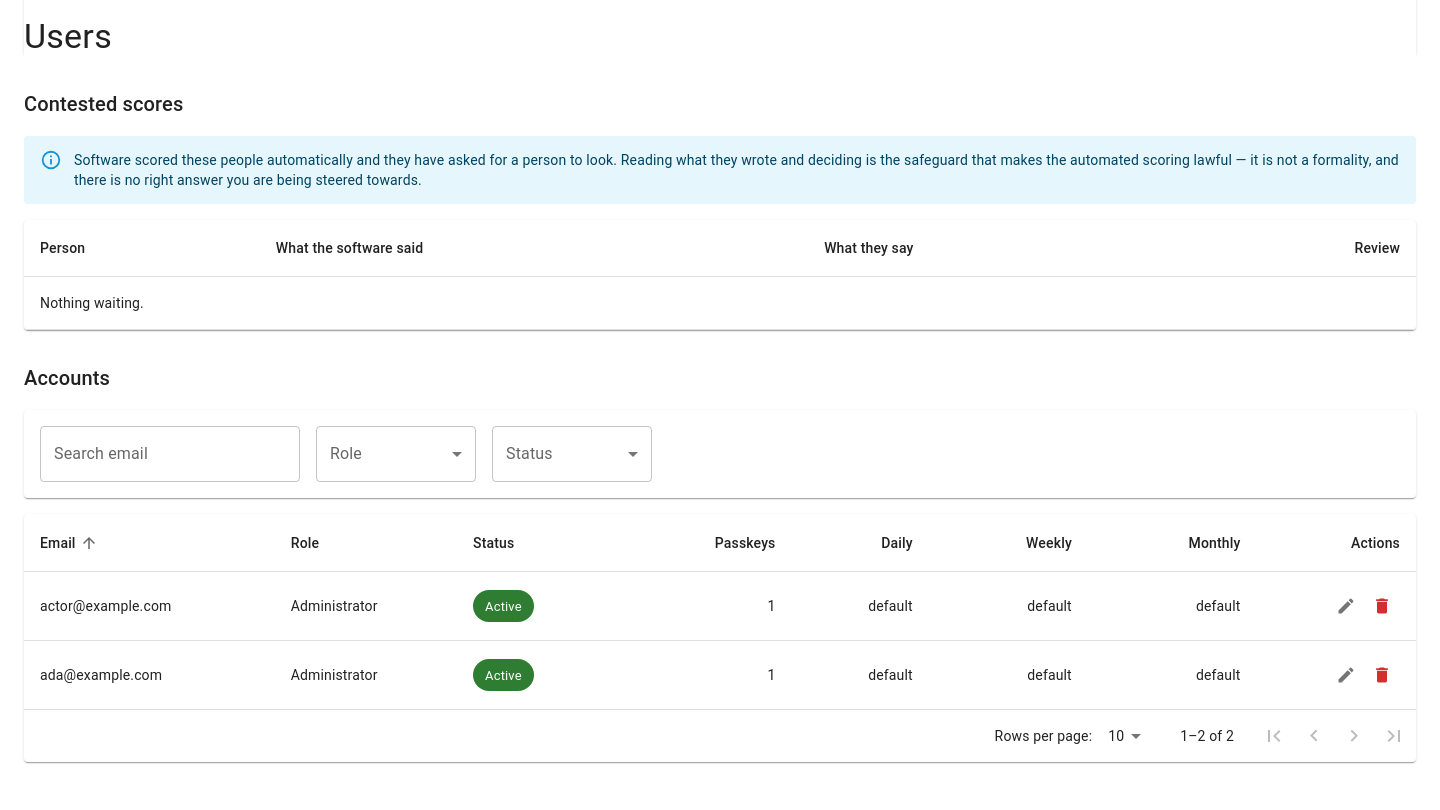
refusals, visible before the click › blocks the signed-in person's own account and says why, as text
(page scrolled)
Click the button named "Edit" in the row of "actor@example.com" at (1346, 606), box [1328, 588, 1364, 624]
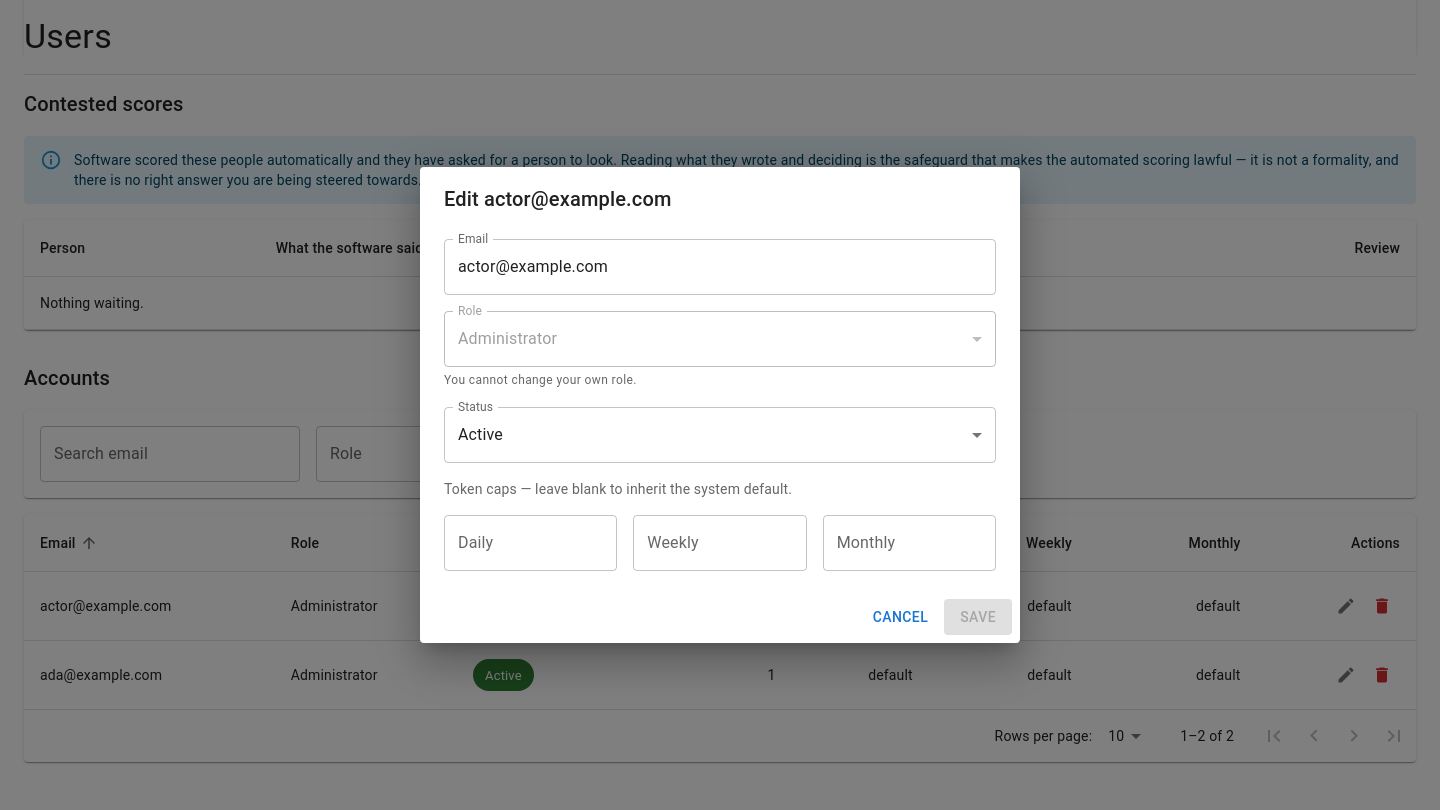
Now the text "You cannot change your own role." is shown, box [444, 373, 637, 387]
